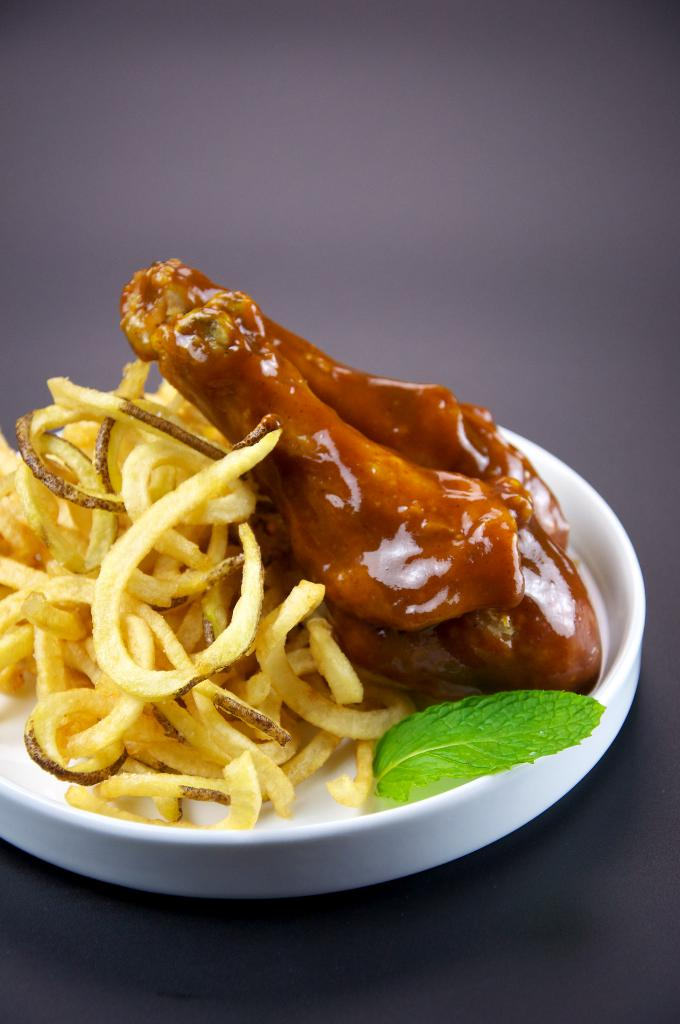French fries: (23, 371, 369, 835)
